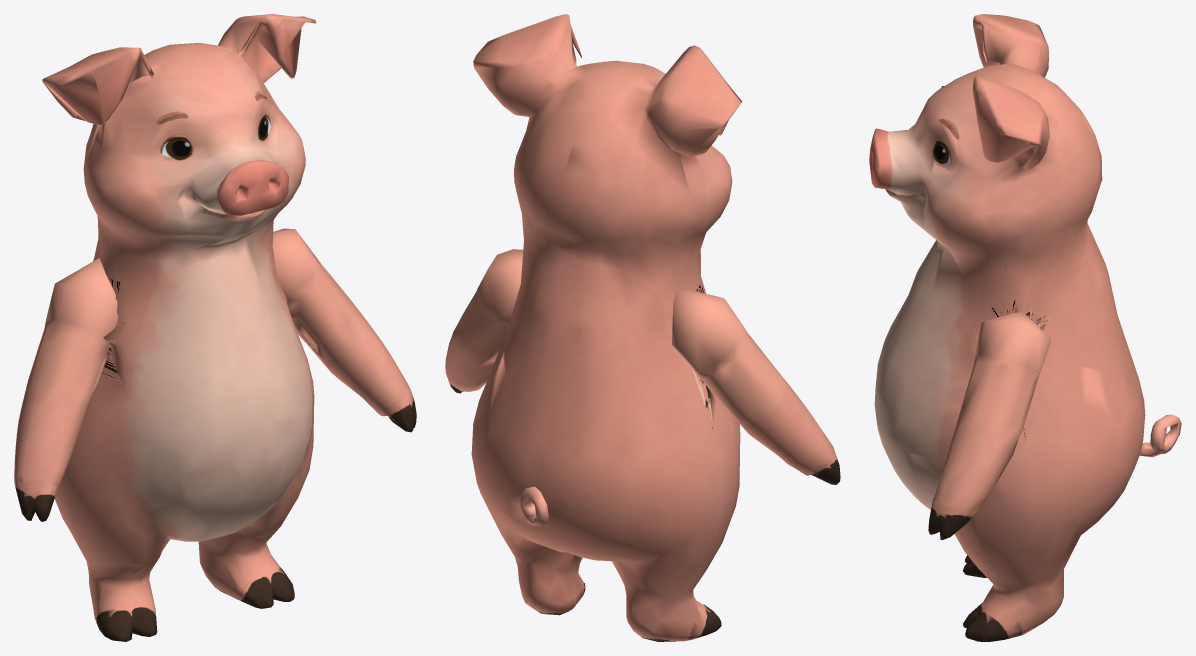
File: pig-arms.glb
3 views of the same model, side by side, from view 1: azimuth 30°, elevation 25°; view 2: azimuth 150°, elevation 25°; view 3: azimuth 270°, elevation 25° (orthographic). The views are drawn at different scales.
Parts seen in each view (by area): view 1: pig; view 2: pig; view 3: pig.
Part boxes in pixels (x1,y1,x2,y2): pig: [14, 14, 416, 641]; pig: [445, 14, 840, 641]; pig: [869, 14, 1181, 641].
Bounding box in the file's own units: 1.34 × 1.9 × 0.9729.
1 material, 1 textured.
